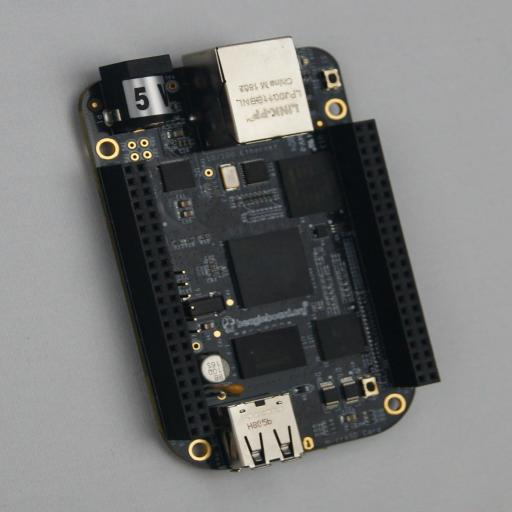Beaglebone Black: (72, 36, 440, 472)
